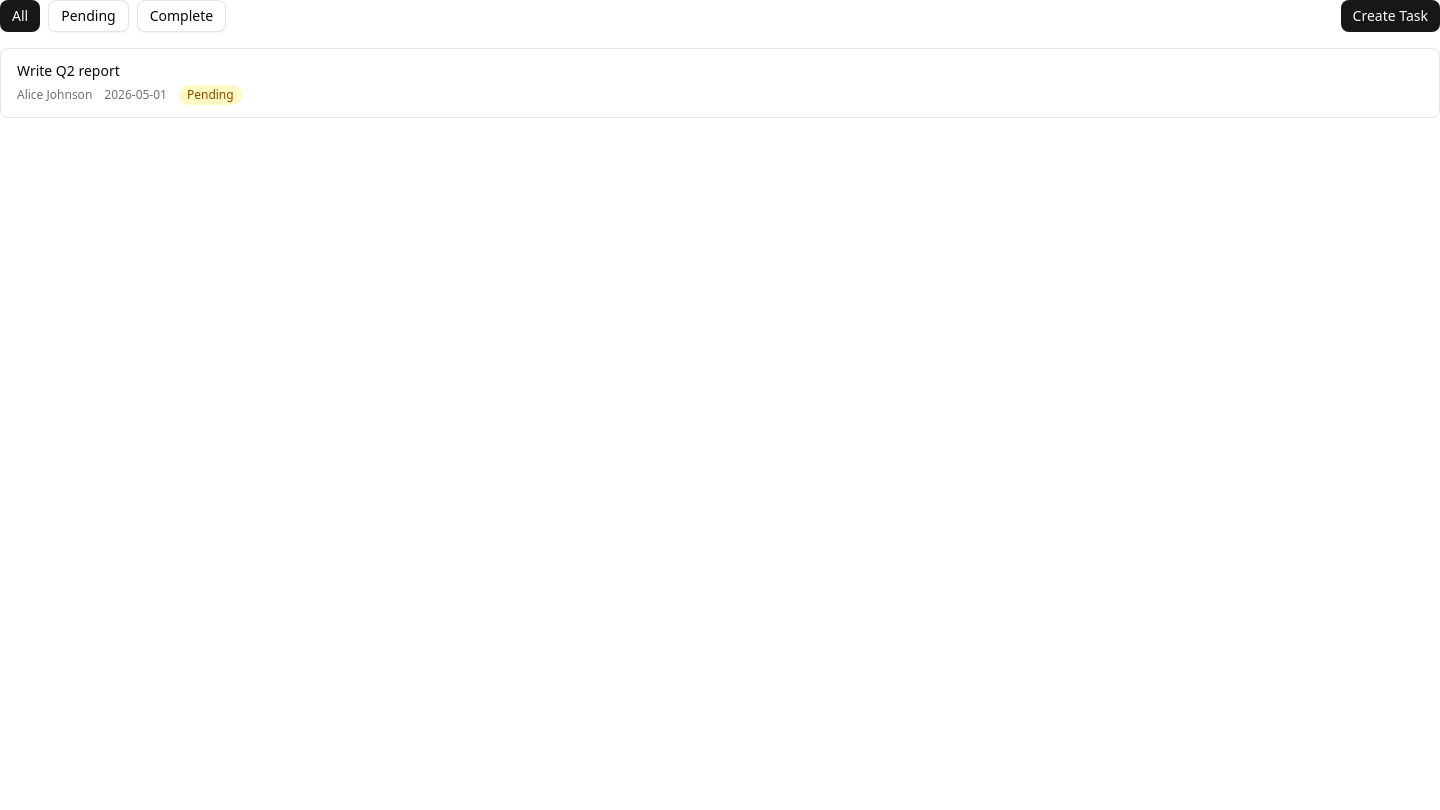
Test: AC-3: Clicking Edit switches the modal to edit mode › AC-3: edit mode shows editable title, description, and due date fields
Click the text "Write Q2 report" at coordinates (68, 70), box top-left (17, 61), bottom-right (120, 80)
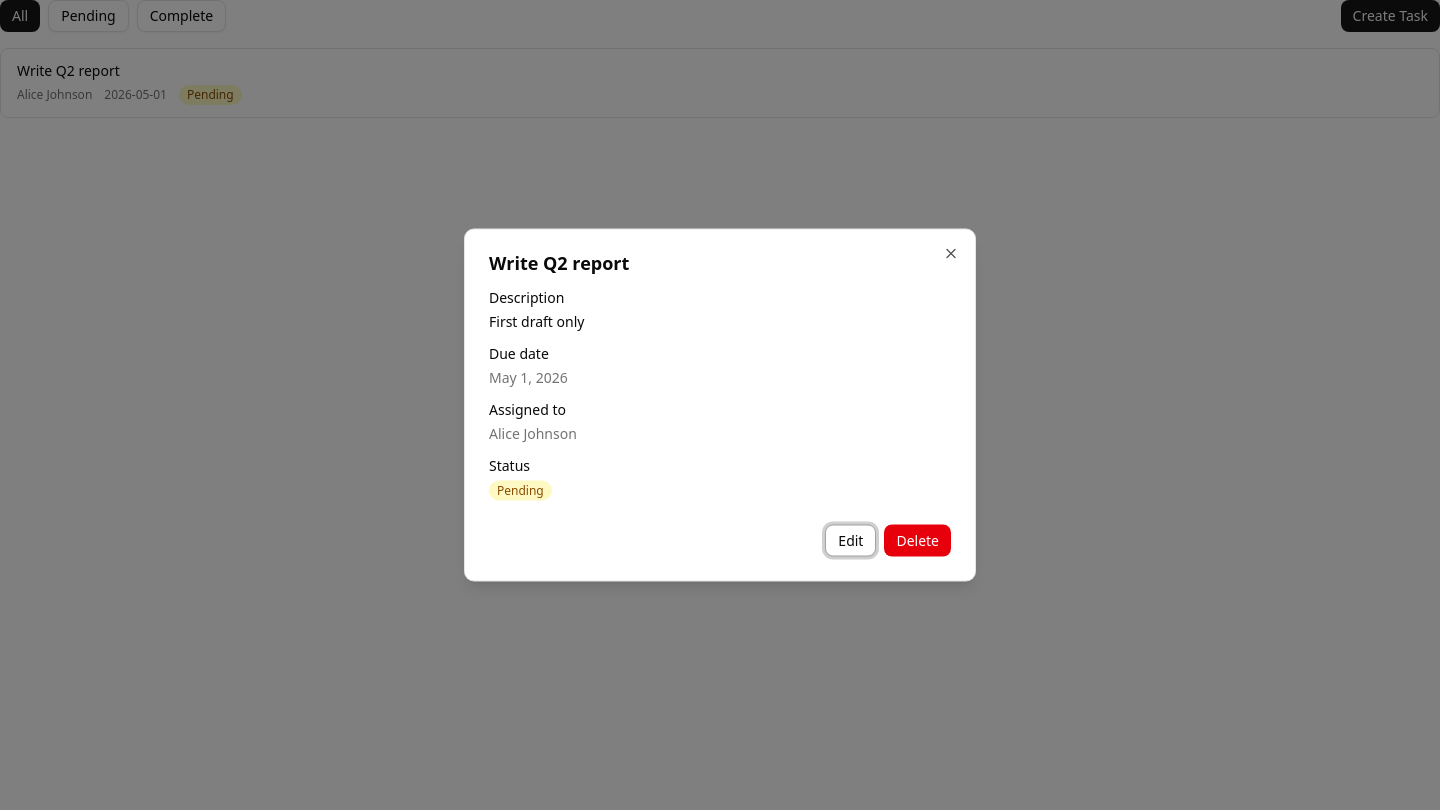
Expected: the dialog is shown, top-left (464, 228), bottom-right (976, 582)
Click the button "Edit" at coordinates (851, 540), box top-left (825, 524), bottom-right (876, 556)
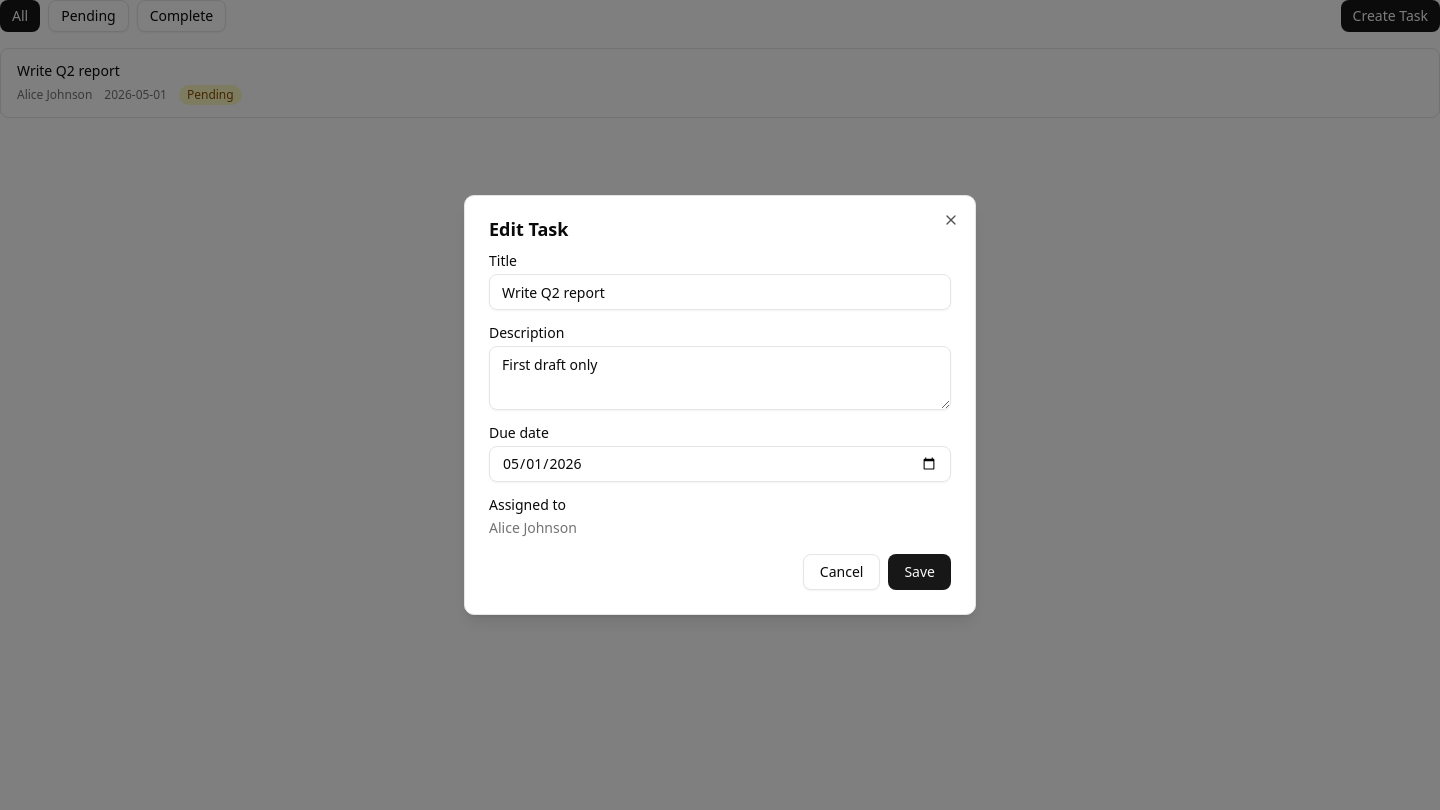
Expected: the field labelled "Title" is shown, top-left (489, 274), bottom-right (951, 310)
Expected: the text box labelled "Description" is shown, top-left (489, 346), bottom-right (951, 410)
Expected: the date field labelled "Due date" is shown, top-left (489, 446), bottom-right (951, 482)
